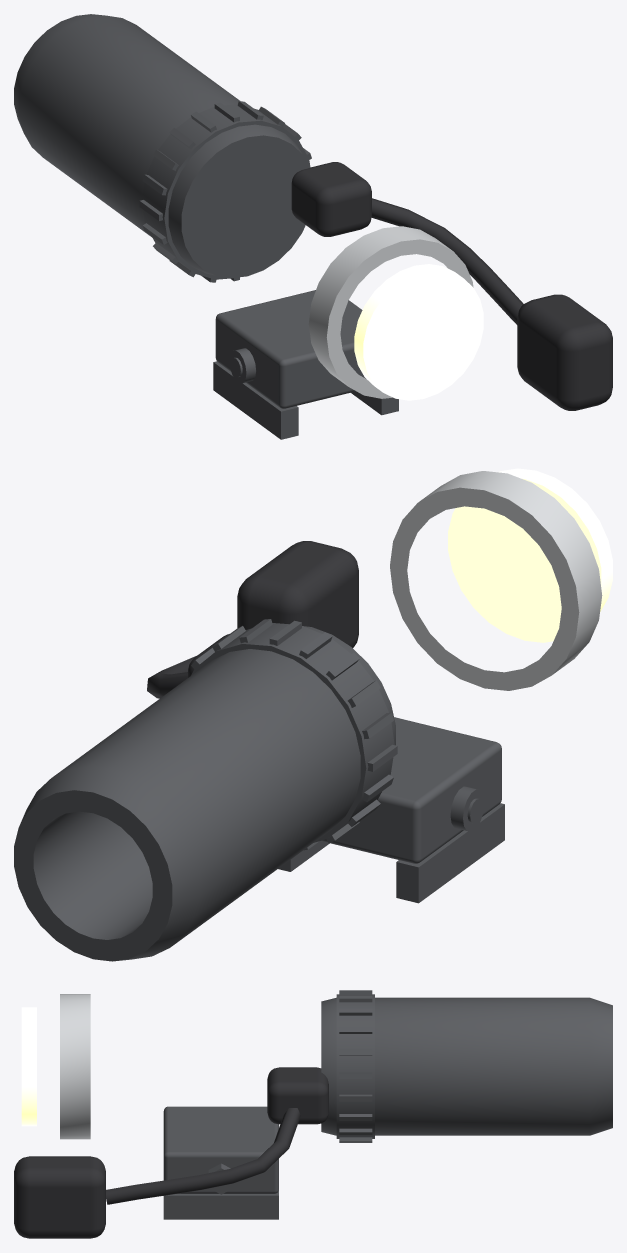
Rendered from arctic-station-fps-kit-weapon-light-ddb775d4__28513.glb.
3 renders of one model, top to bottom at view 1: azimuth 30°, elevation 25°; view 2: azimuth 150°, elevation 25°; view 3: azimuth 270°, elevation 25°, orthographic. The views are drawn at different scales.
Visible parts, largest first — view 1: weapon-light; view 2: weapon-light; view 3: weapon-light.
Boxes of the visible parts, <box> form: weapon-light: <box>14,14,612,439</box>; weapon-light: <box>14,468,612,961</box>; weapon-light: <box>14,990,612,1238</box>.
Bounding box in the file's own units: 0.0689 × 0.0568 × 0.156.
